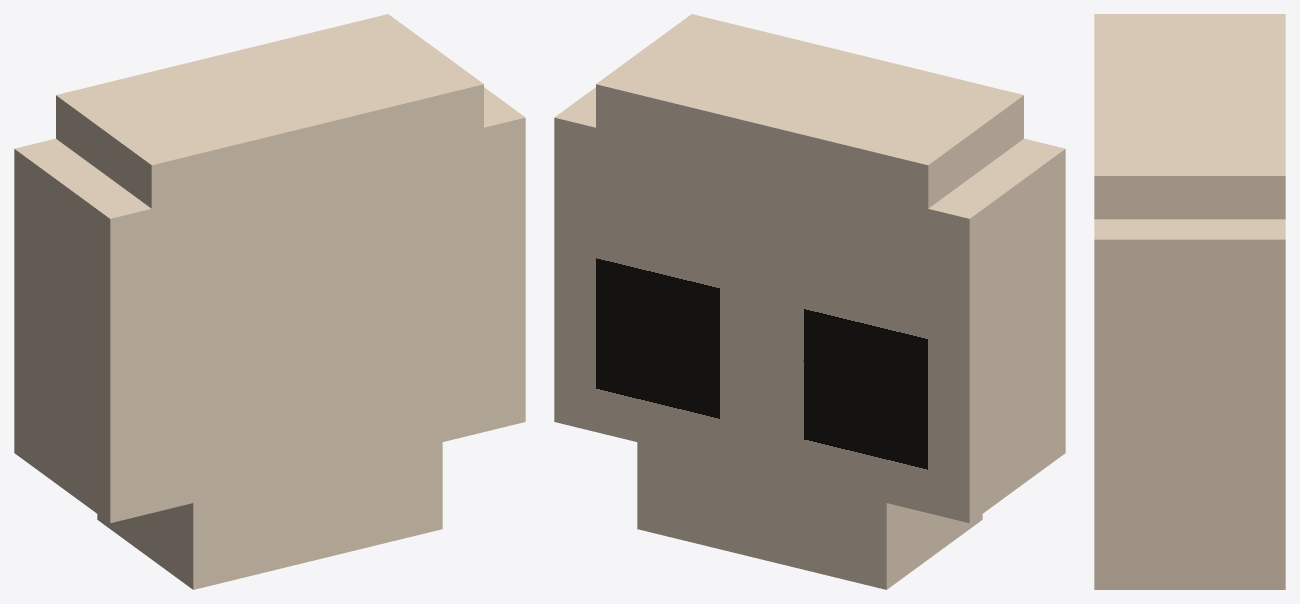
The model's file is footer_skull_1.gltf.
The picture shows the model from 3 angles, left to right: view 1: azimuth 30°, elevation 25°; view 2: azimuth 150°, elevation 25°; view 3: azimuth 270°, elevation 25°; orthographic projection.
Parts seen in each view (by area): view 1: Skull1_1-Local; view 2: Skull1_1-Local; view 3: Skull1_1-Local.
Part boxes in pixels (x1,y1,x2,y2): Skull1_1-Local: (14,14,525,589); Skull1_1-Local: (554,14,1065,589); Skull1_1-Local: (1094,14,1285,589).
Bounding box in the file's own units: 10 × 10 × 4.
Materials: 1 (1 with a texture image).
